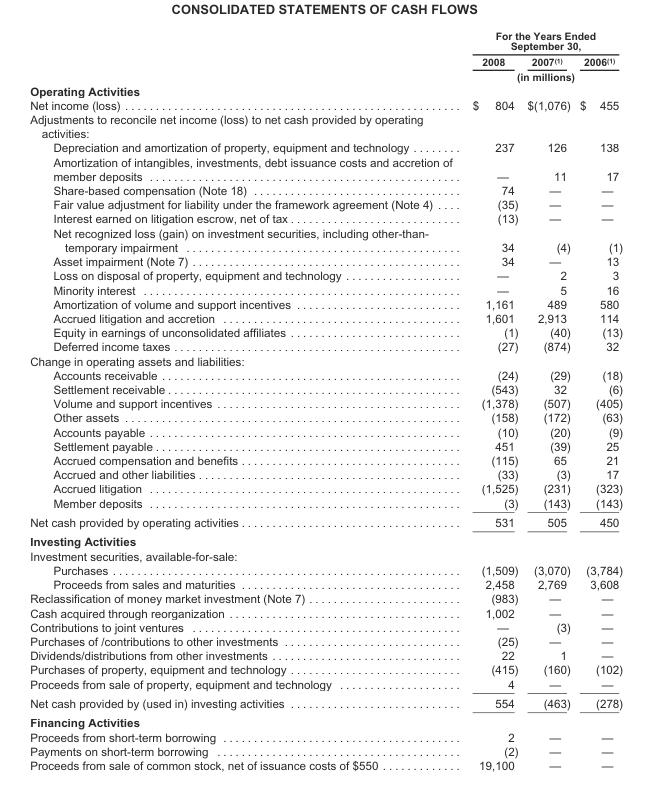table: (29, 29, 622, 771)
table column: (29, 29, 461, 771), (461, 29, 522, 771), (522, 29, 574, 771), (574, 29, 622, 771)
table column header: (29, 29, 622, 83)
table projected row header: (29, 111, 622, 140), (29, 531, 622, 548), (29, 712, 622, 729), (29, 83, 622, 97), (29, 353, 622, 367), (29, 548, 622, 562)
table row: (29, 111, 622, 140), (29, 154, 622, 182), (29, 225, 622, 253), (29, 29, 622, 53), (29, 512, 622, 531), (29, 693, 622, 712), (29, 495, 622, 512), (29, 531, 622, 548), (29, 676, 622, 693), (29, 712, 622, 729), (29, 53, 622, 68), (29, 68, 622, 83), (29, 196, 622, 211), (29, 253, 622, 268), (29, 324, 622, 339), (29, 395, 622, 410), (29, 452, 622, 467), (29, 576, 622, 591), (29, 647, 622, 662), (29, 83, 622, 97), (29, 97, 622, 111), (29, 140, 622, 154), (29, 182, 622, 196), (29, 211, 622, 225), (29, 268, 622, 282), (29, 282, 622, 296), (29, 296, 622, 310), (29, 310, 622, 324), (29, 339, 622, 353), (29, 353, 622, 367), (29, 367, 622, 381), (29, 381, 622, 395), (29, 410, 622, 424), (29, 424, 622, 438), (29, 438, 622, 452), (29, 467, 622, 481), (29, 481, 622, 495), (29, 548, 622, 562), (29, 562, 622, 576), (29, 591, 622, 605), (29, 605, 622, 619), (29, 619, 622, 633), (29, 633, 622, 647), (29, 662, 622, 676), (29, 729, 622, 743), (29, 743, 622, 757), (29, 757, 622, 771)
table spanning cell: (461, 29, 622, 53), (461, 68, 622, 83)
